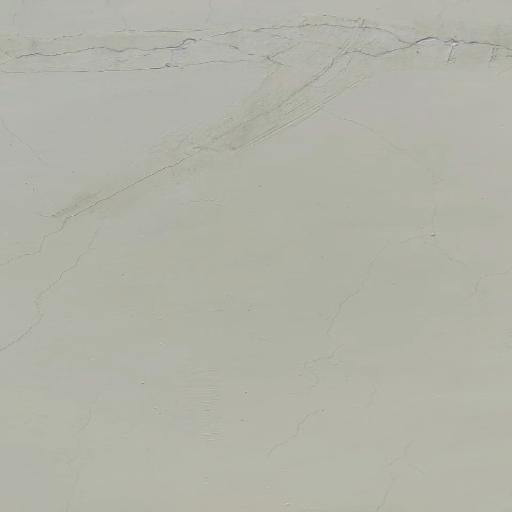employee-detectio-system: (41, 82, 460, 447)
